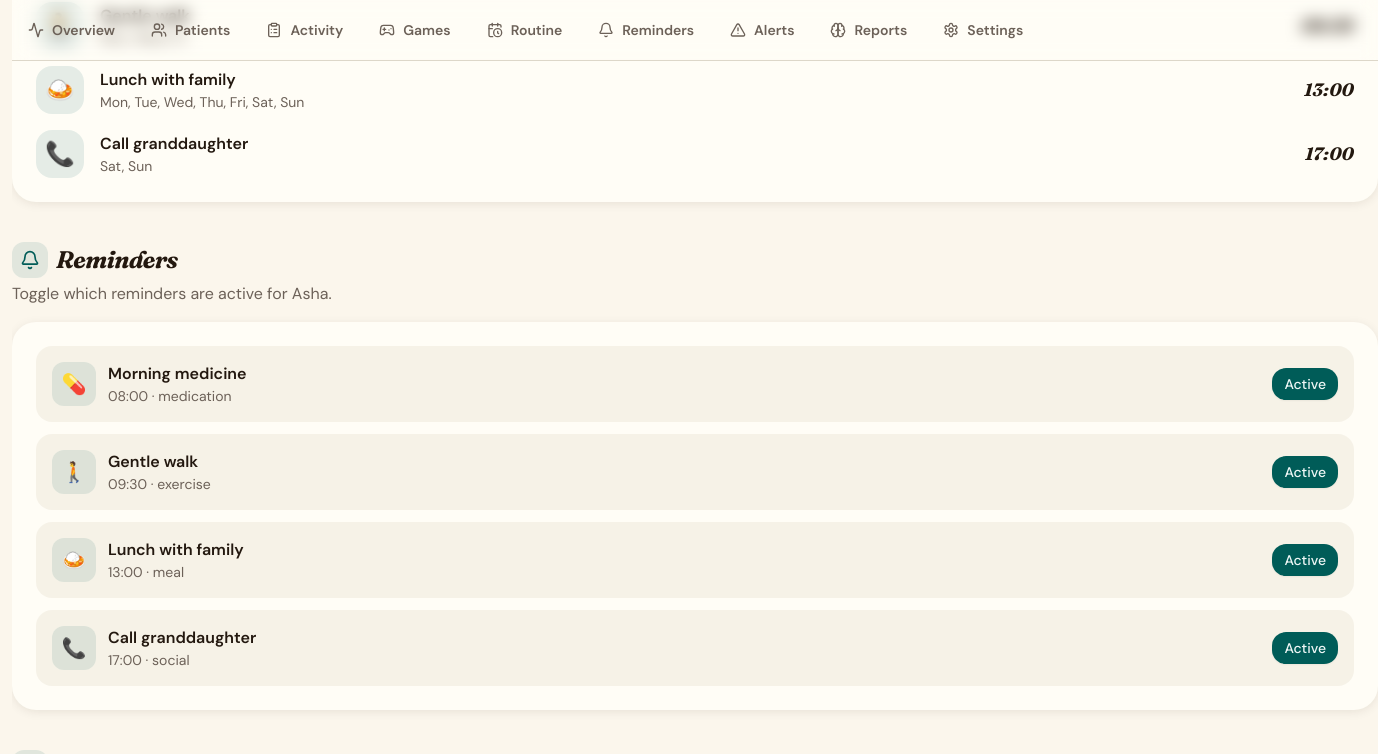
Test case: Caregiver dashboard reminders › toggles a reminder between Active and Paused and updates the store
The width and height of the screenshot is (1378, 754).
(page scrolled)
Step 1. Click the button with test id "caregiver.reminder.toggle.rem-1" → coordinates (1305, 384), box [1272,368,1338,400]
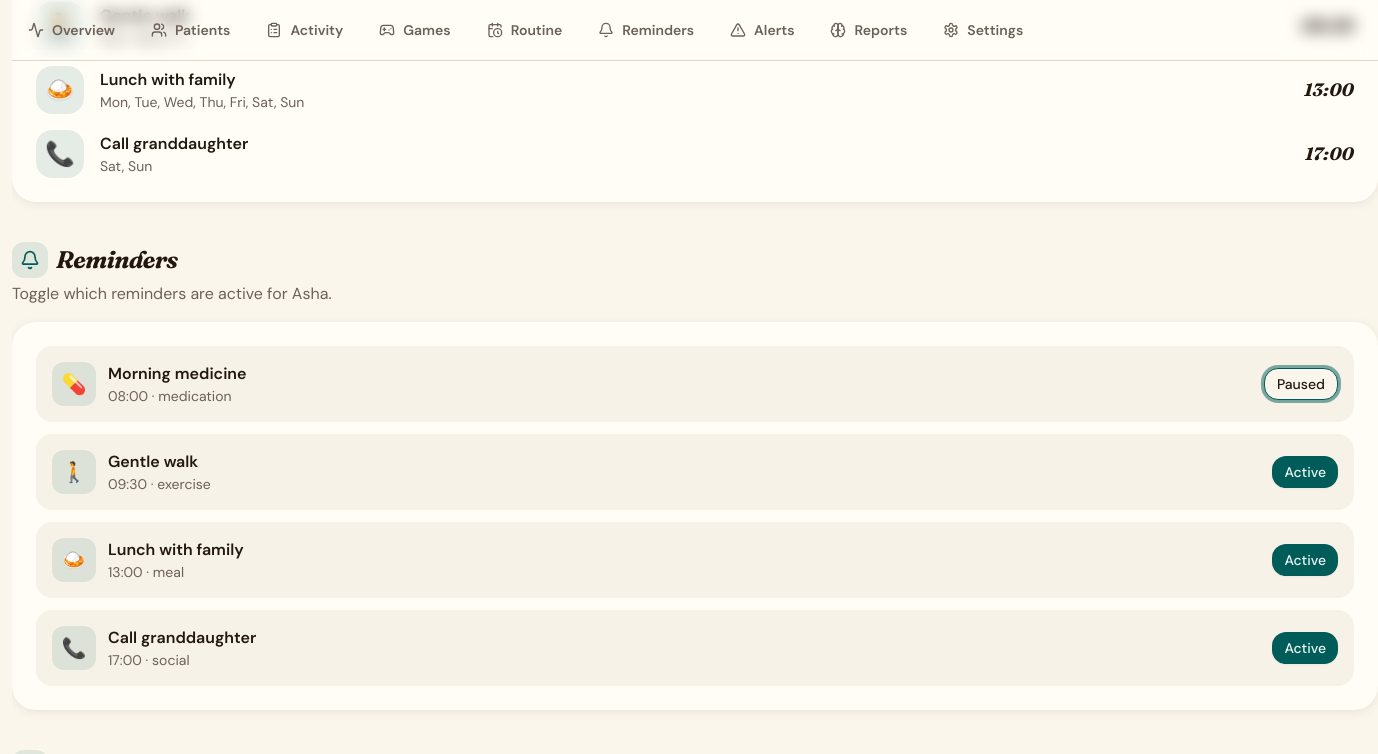
Check: the button with test id "caregiver.reminder.toggle.rem-1" reads "Paused", box [1264,368,1338,400]
